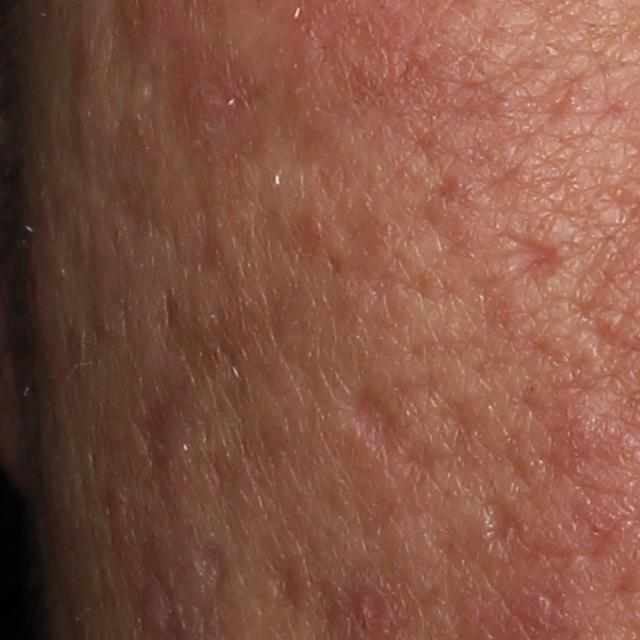atrophic_scar: (339, 377, 409, 468), (127, 398, 182, 495), (251, 546, 304, 628), (500, 233, 566, 291), (480, 495, 526, 557), (195, 537, 235, 592)
